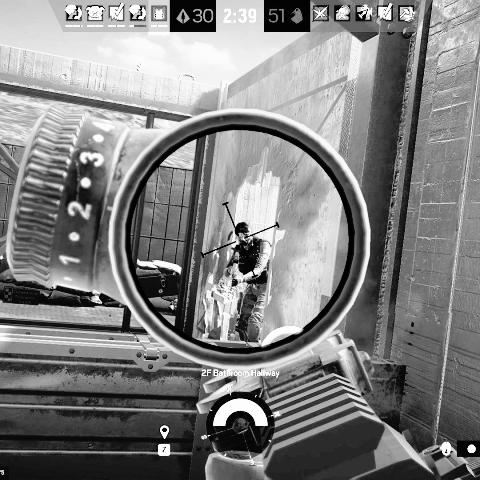Character: (223, 220, 273, 344)
Head: (233, 220, 254, 248)
